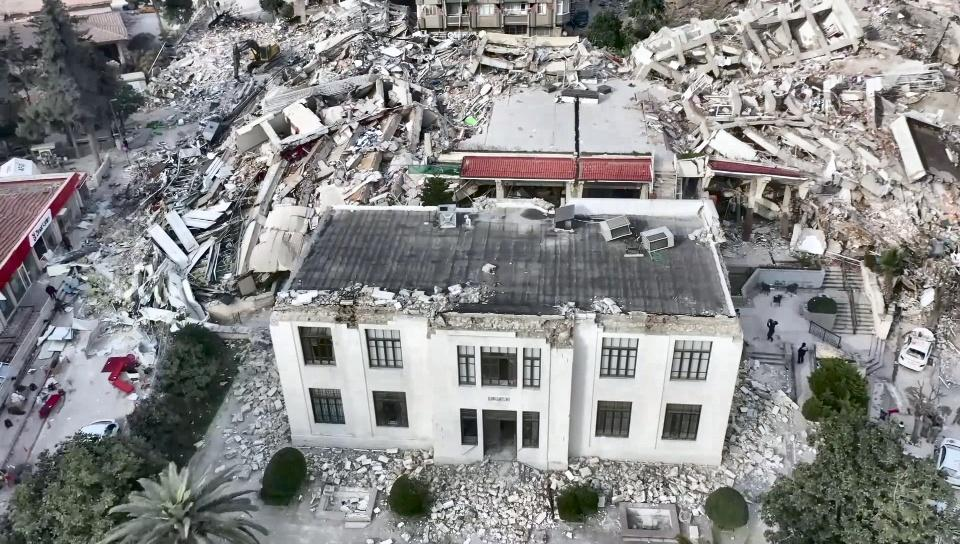kapali: (14, 0, 304, 403)
